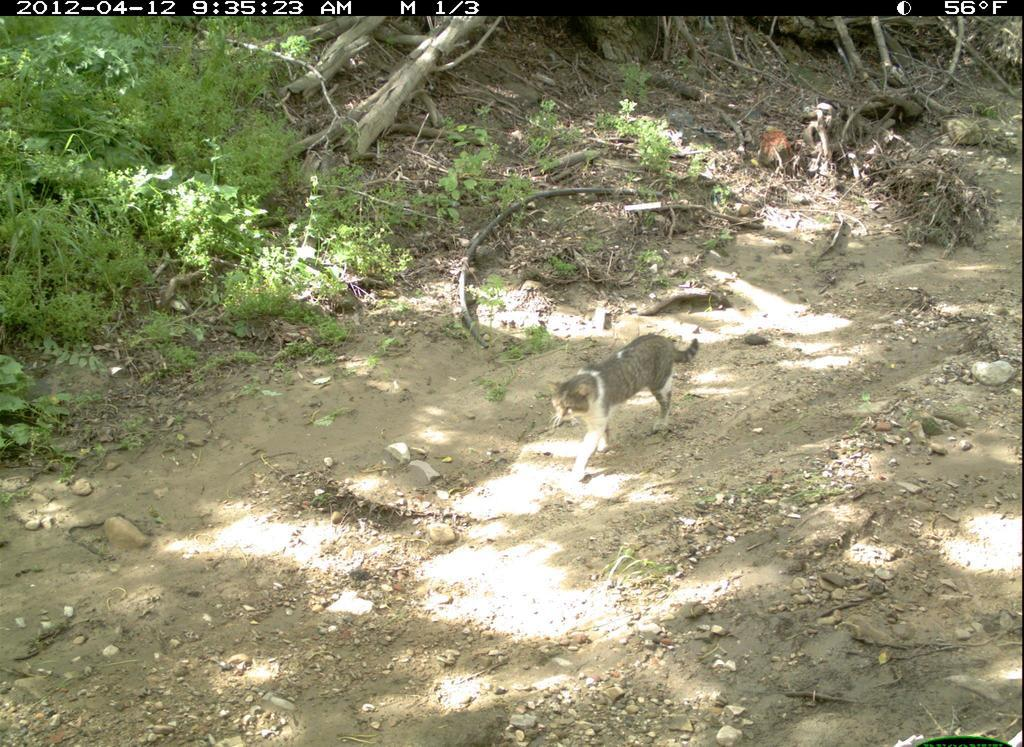cat: (527, 327, 730, 492)
